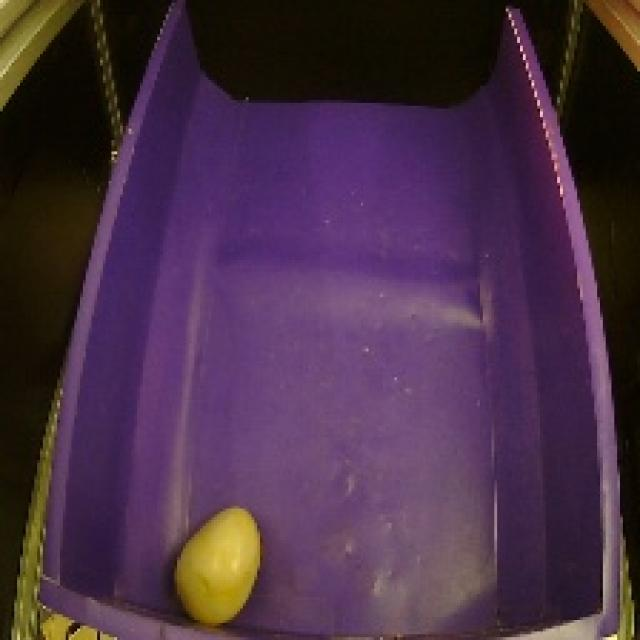cobbles: (166, 498, 268, 635)
